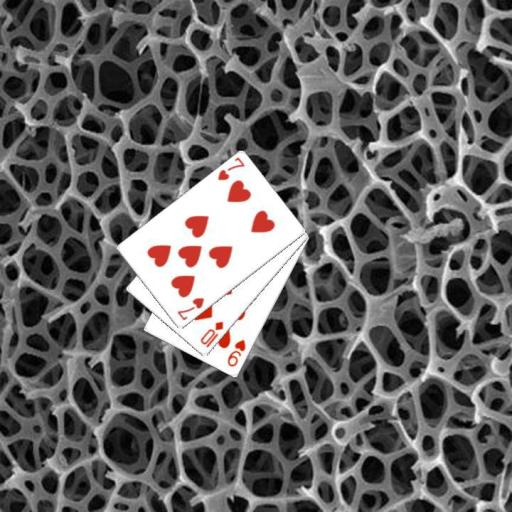10D: (197, 319, 225, 349)
7H: (215, 154, 246, 182), (174, 295, 206, 322)
9H: (224, 337, 247, 369)
